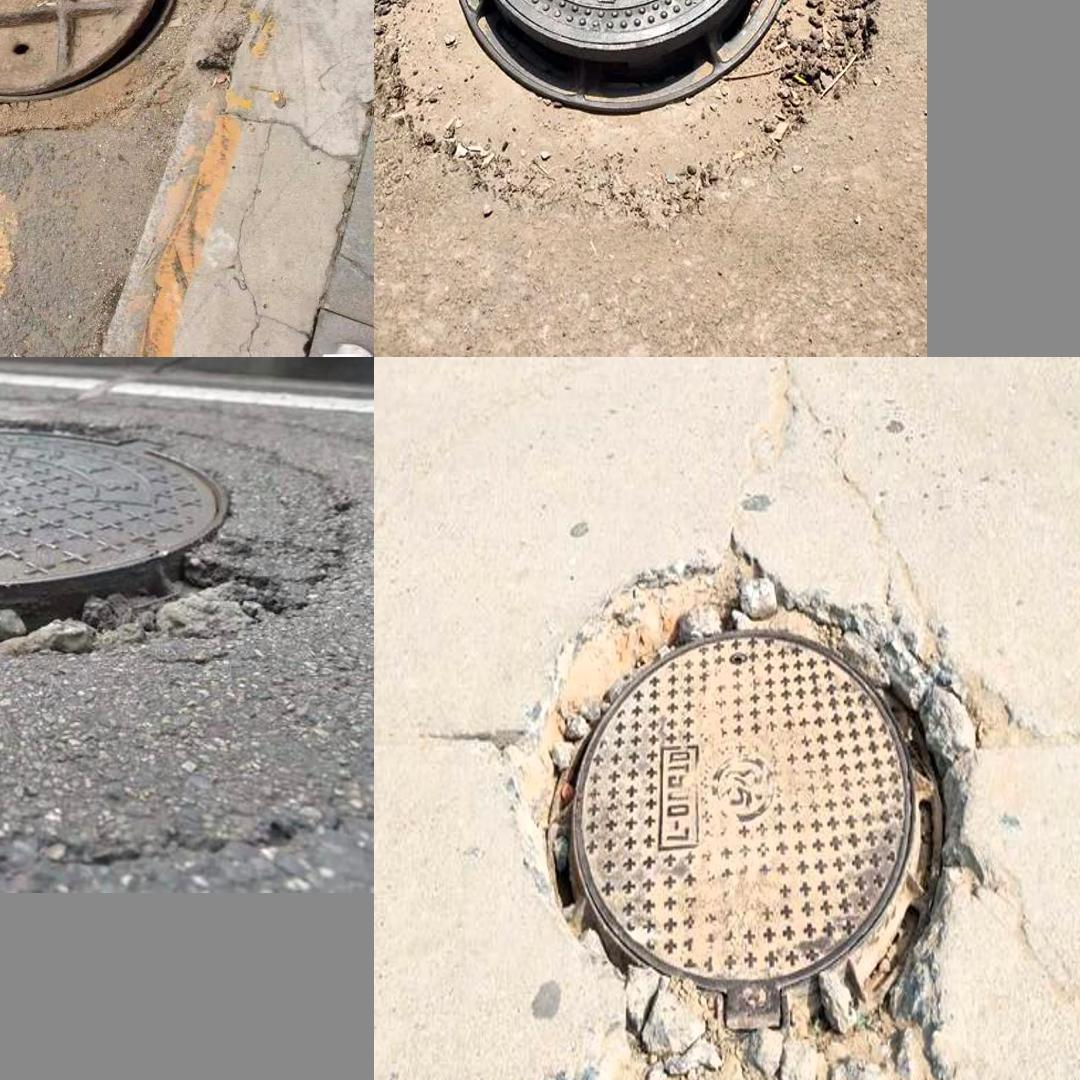circle: (487, 539, 1010, 1080), (383, 0, 871, 215), (0, 409, 344, 698), (0, 0, 296, 156)
